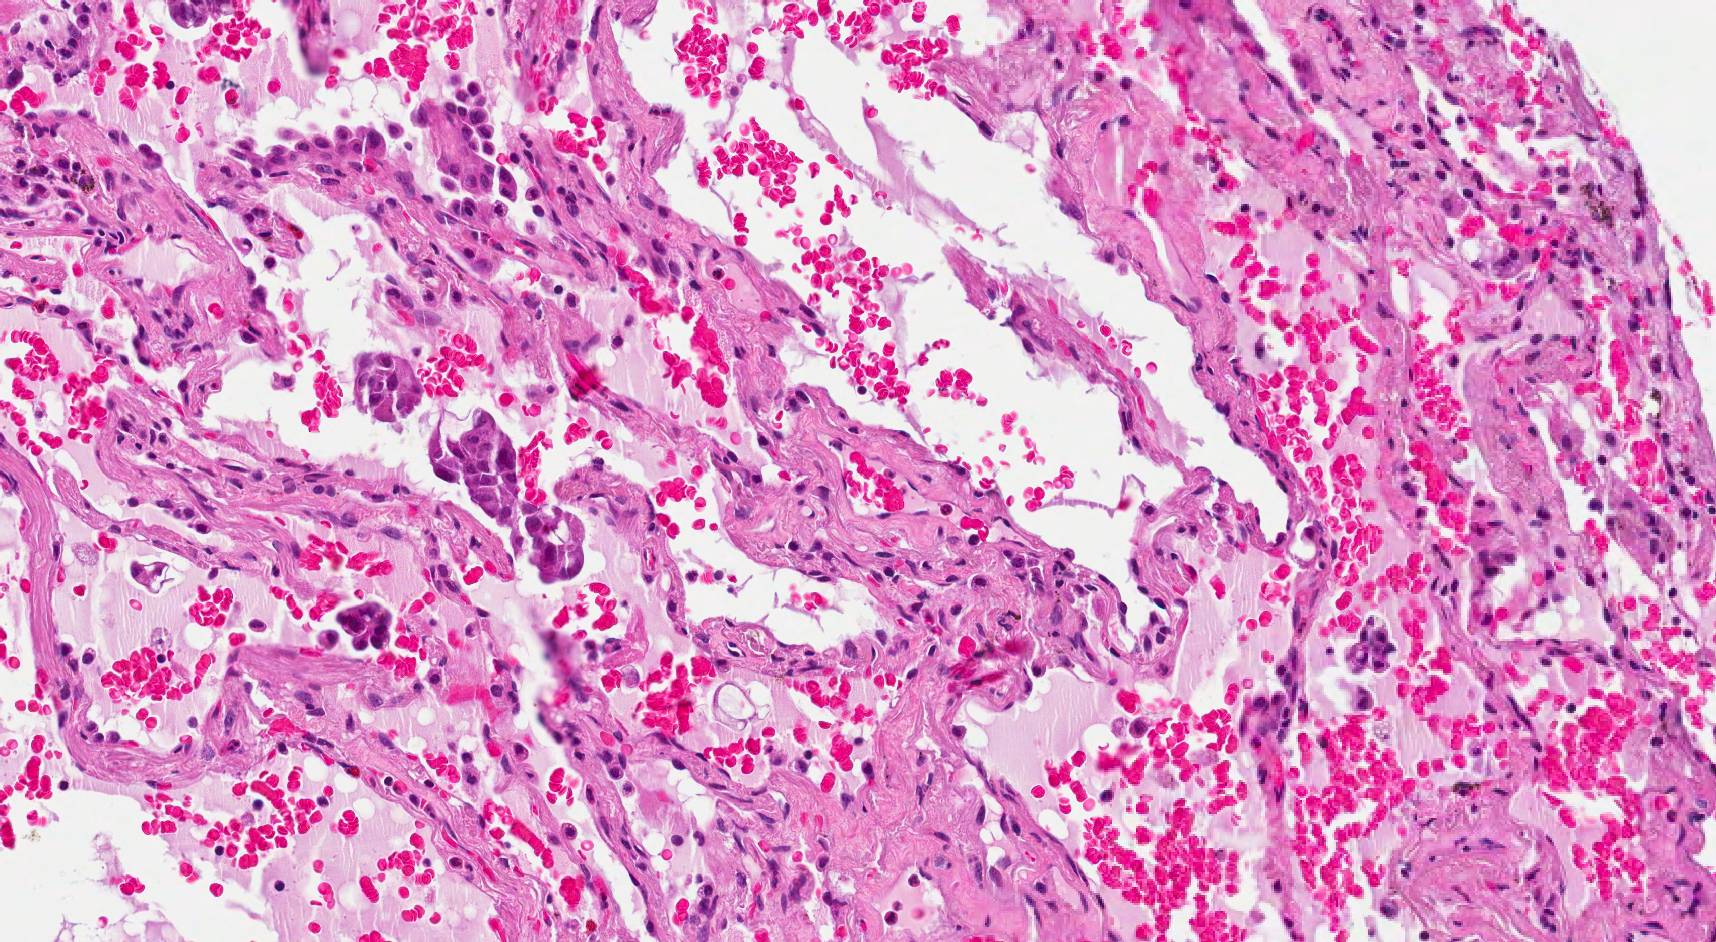stas: (425, 406, 598, 587), (347, 346, 433, 429), (308, 596, 398, 659), (1341, 610, 1410, 682), (128, 560, 176, 595)
